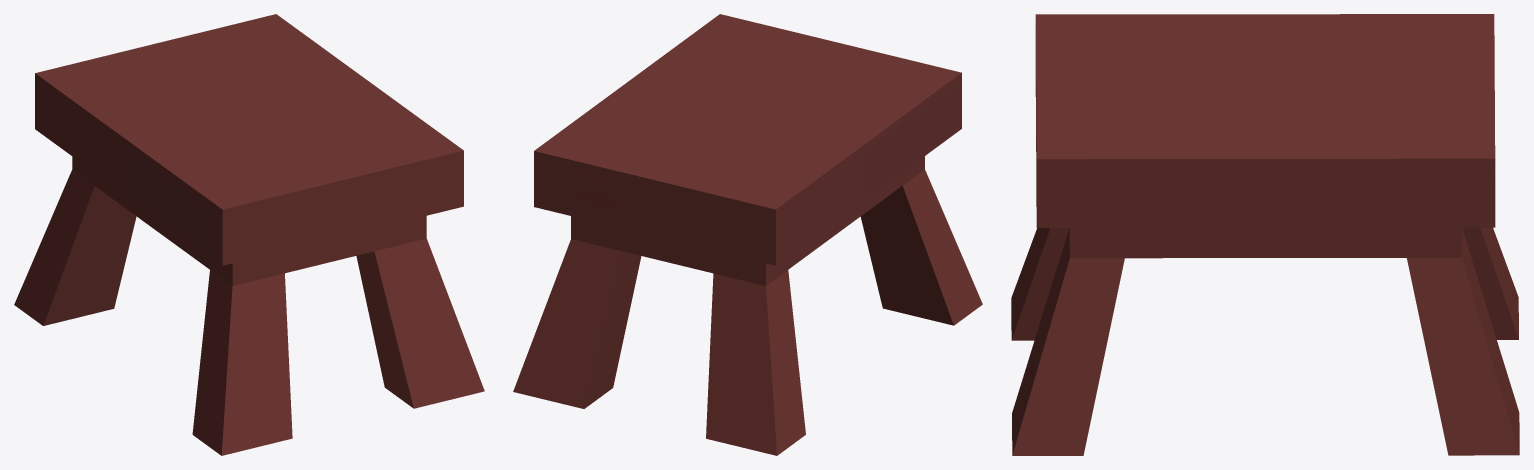
File: Stool.glb
The picture shows the model from 3 angles, left to right: view 1: azimuth 30°, elevation 25°; view 2: azimuth 150°, elevation 25°; view 3: azimuth 270°, elevation 25°; orthographic projection. The views are drawn at different scales.
Visible parts, largest first — view 1: Stool; view 2: Stool; view 3: Stool.
Boxes of the visible parts, x1=… form: Stool: x1=14, y1=14, x2=484, y2=455; Stool: x1=513, y1=14, x2=982, y2=455; Stool: x1=1011, y1=14, x2=1519, y2=455.
Size of the model in its own units: 0.6905 by 0.5895 by 0.9361.
Materials: 1 (1 with a texture image).
